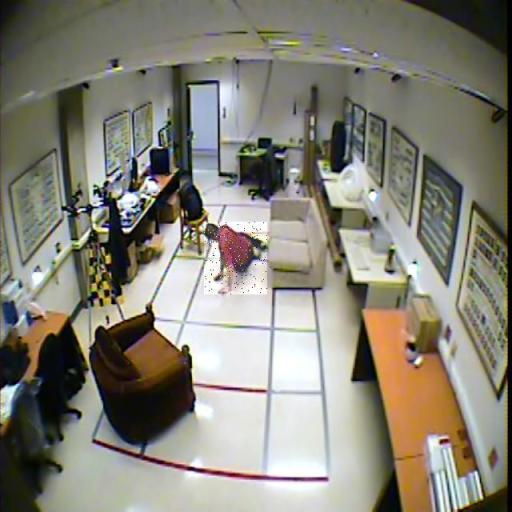Fall: (204, 222, 267, 295)
